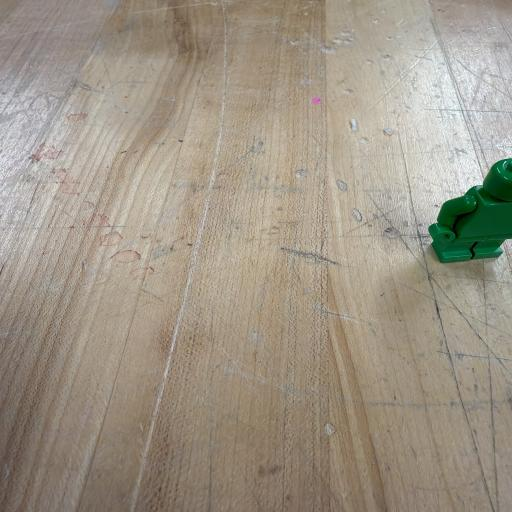Green-Lego: (429, 159, 512, 263)
